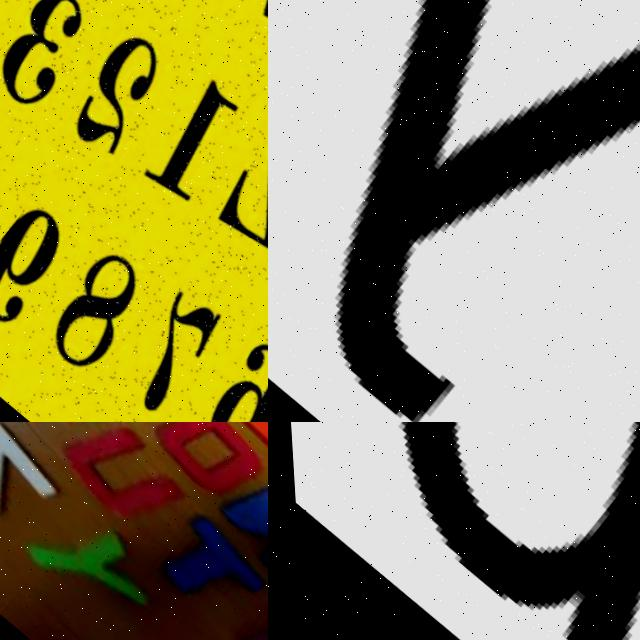0: (0, 118, 32, 310)
1: (101, 37, 268, 219)
2: (33, 0, 204, 175)
3: (0, 0, 122, 132)
6: (153, 312, 268, 422)
7: (76, 252, 264, 422)
8: (2, 209, 178, 390)
9: (0, 158, 108, 349)
B: (397, 422, 640, 640)
N: (206, 459, 268, 594)
O: (137, 422, 263, 501)
S: (220, 594, 268, 640)
T: (141, 504, 268, 628)
U: (45, 422, 191, 541)
V: (0, 422, 112, 455)
Y: (268, 0, 640, 422), (10, 490, 160, 633)
Z: (0, 422, 58, 539)
